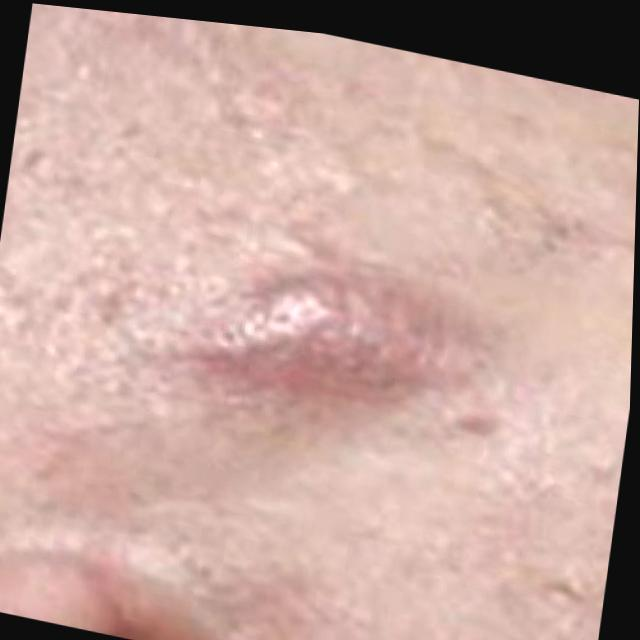nodule: (109, 204, 597, 488)
